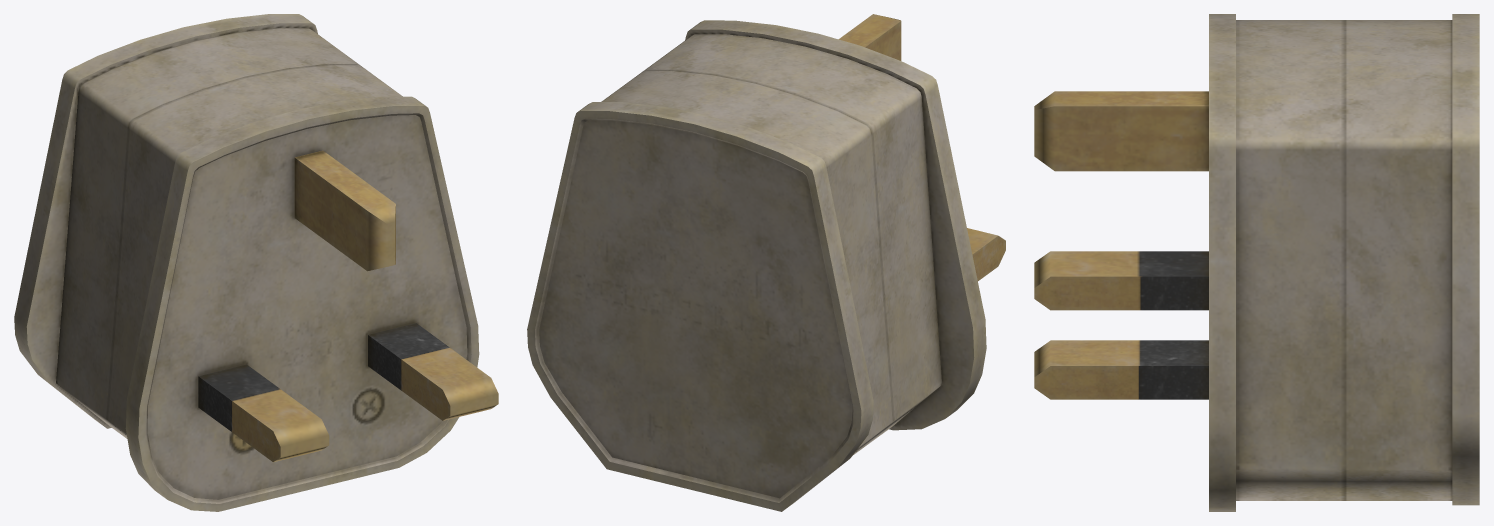
The model's file is M_Head_Plug_01.FBX.
3 renders of one model, left to right at view 1: azimuth 30°, elevation 25°; view 2: azimuth 150°, elevation 25°; view 3: azimuth 270°, elevation 25°, orthographic. The views are drawn at different scales.
Parts seen in each view (by area): view 1: M_Head_Plug_01; view 2: M_Head_Plug_01; view 3: M_Head_Plug_01.
Part boxes in pixels (left/top/right/bottom): M_Head_Plug_01: left=14, top=14, right=498, bottom=511; M_Head_Plug_01: left=527, top=14, right=1005, bottom=511; M_Head_Plug_01: left=1034, top=14, right=1479, bottom=511.
Bounding box in the file's own units: 4.39 × 4.6 × 4.56.
